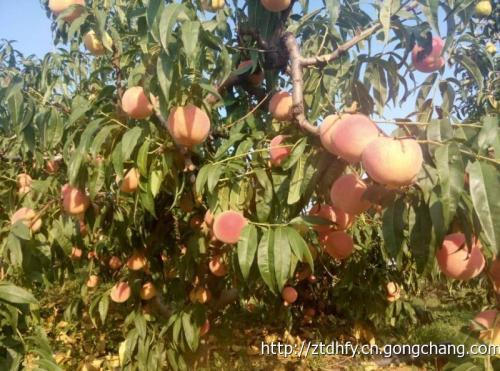apple: (360, 135, 422, 188), (319, 114, 379, 159), (436, 233, 487, 279), (167, 104, 211, 145), (331, 175, 374, 212), (213, 209, 247, 243), (414, 37, 447, 71), (123, 86, 152, 118), (269, 134, 296, 167), (63, 184, 89, 215), (270, 91, 294, 119)
